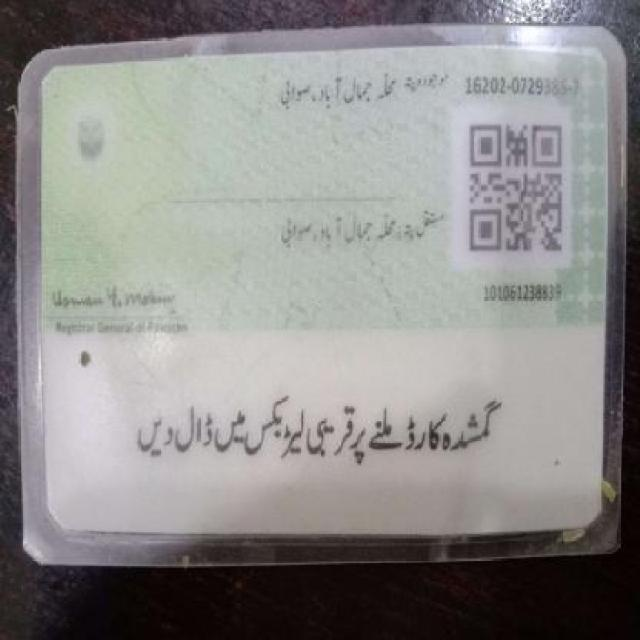Back: (23, 43, 620, 551)
